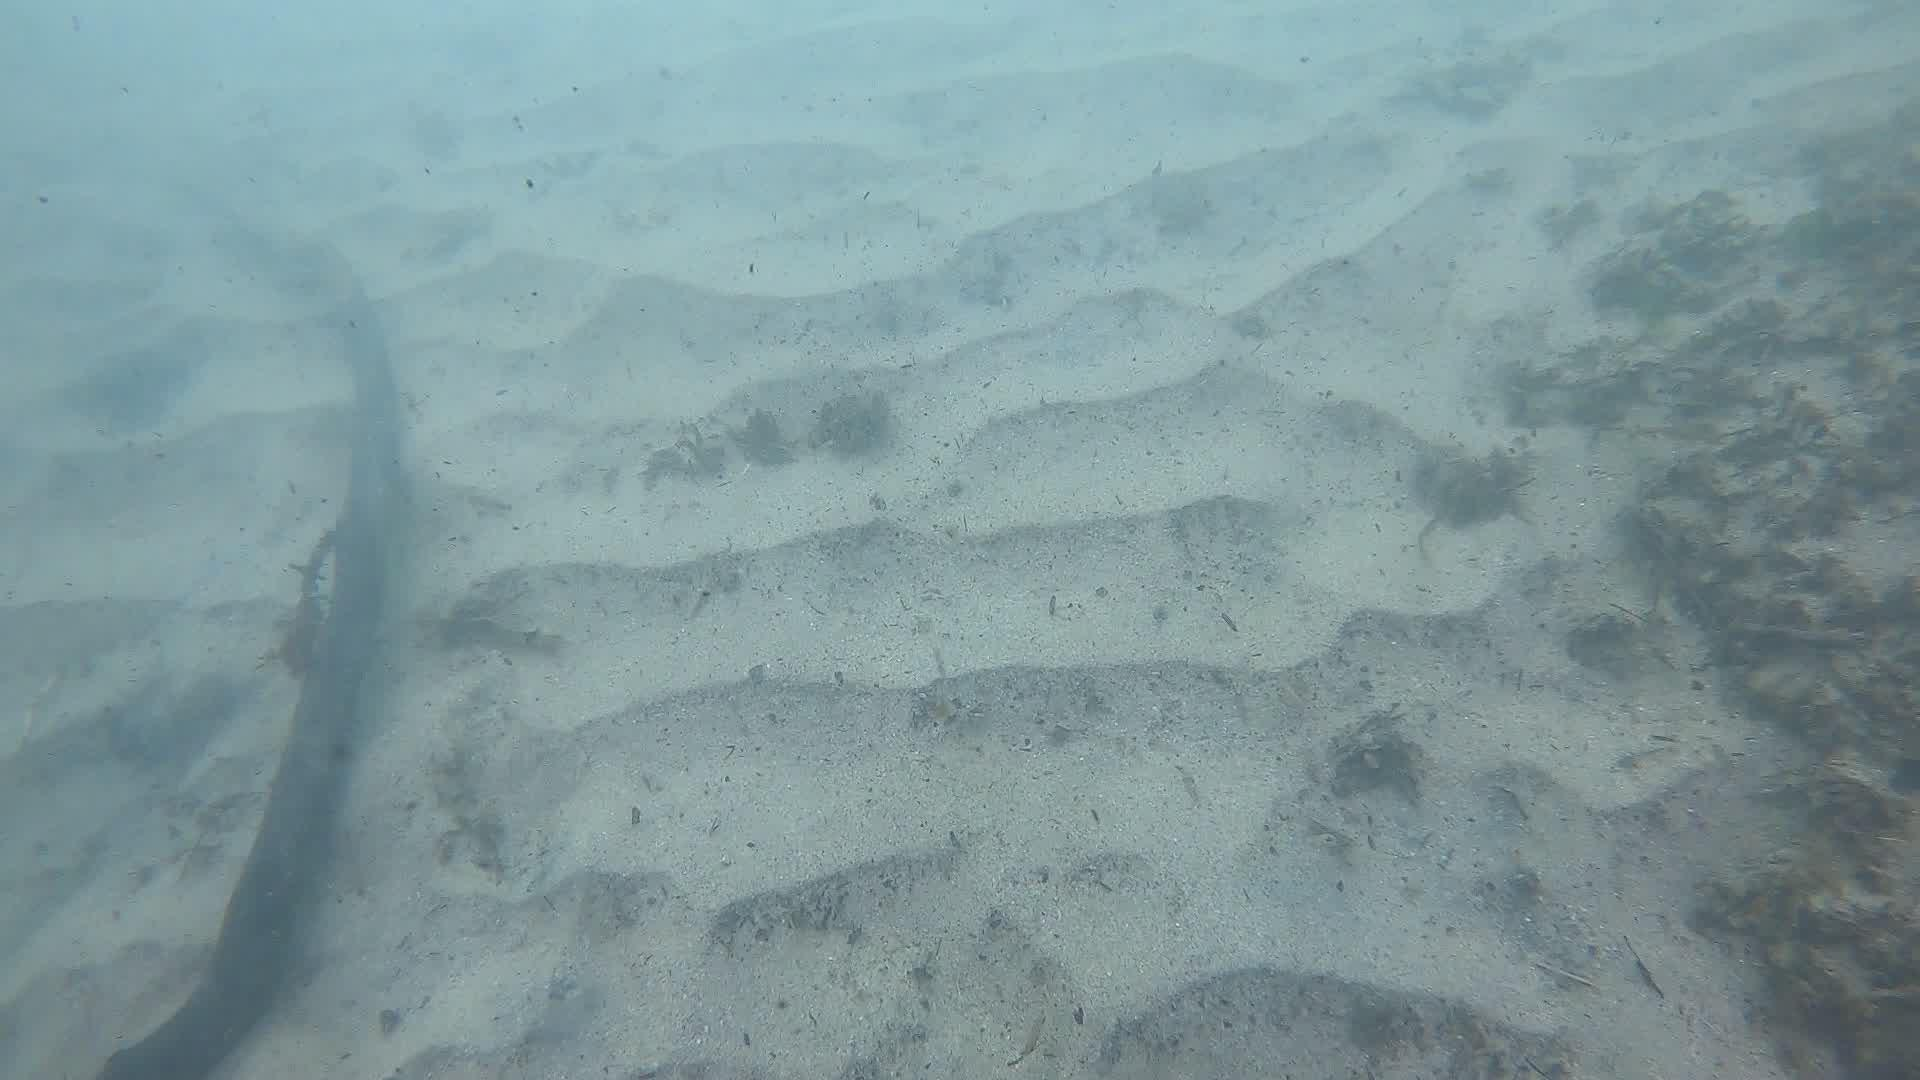wood: (91, 207, 400, 1080)
